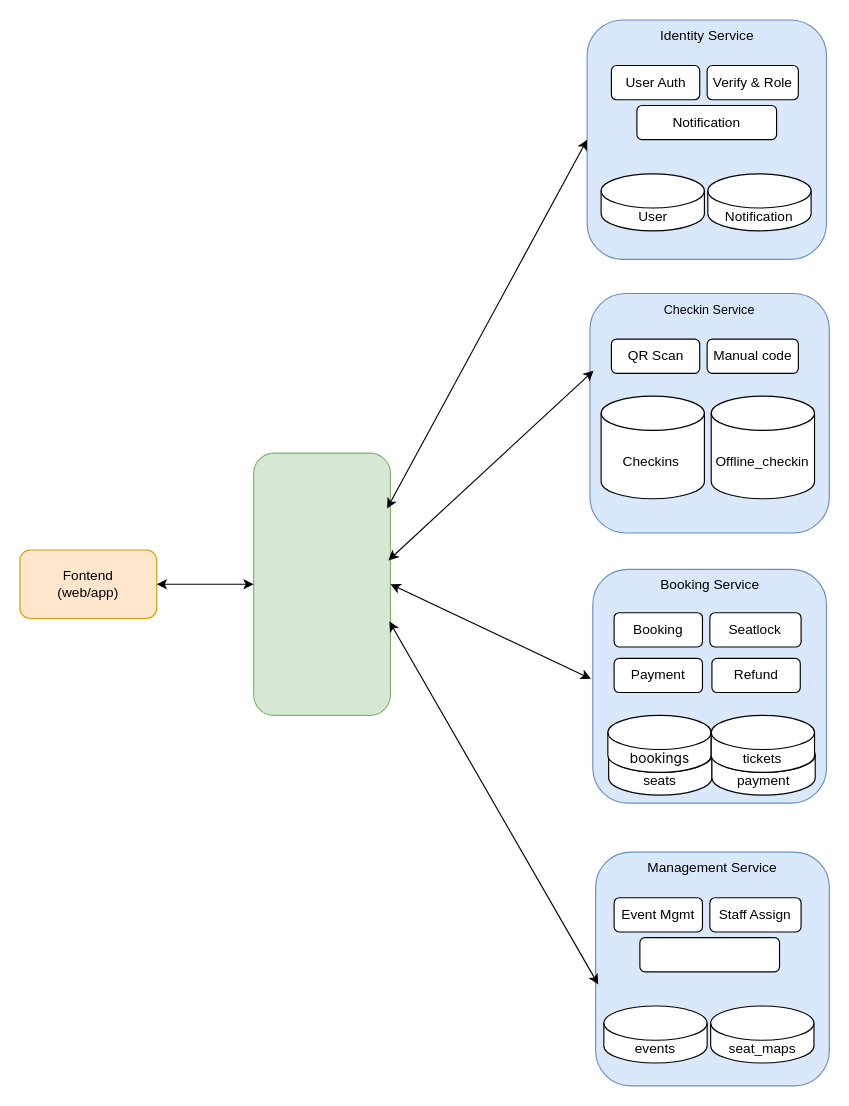
Image size: 849x1106. Some labels were removed from this diagram. Each missing label, with the centre of its shape:
"Admin Approval" goes at pixel 709 954.
"API Gateway (Kafka, Service Discovery)" goes at pixel 321 583.
